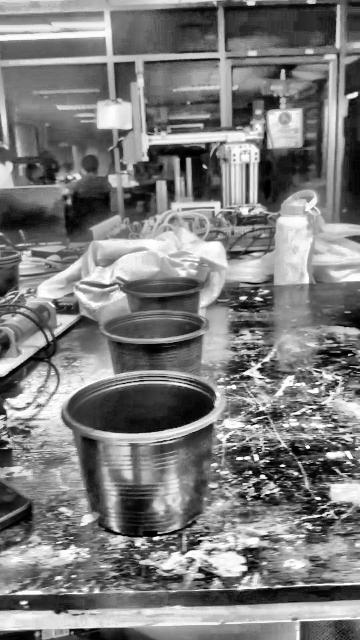pot: (61, 372, 223, 536), (100, 310, 208, 375), (123, 277, 204, 313)
